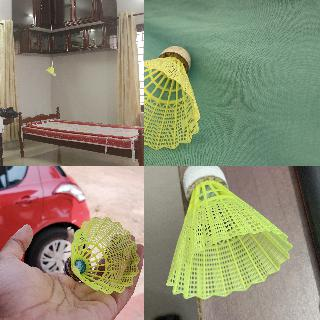shuttlecock: (165, 166, 291, 299), (63, 216, 139, 294), (144, 46, 200, 151), (46, 66, 54, 76)
